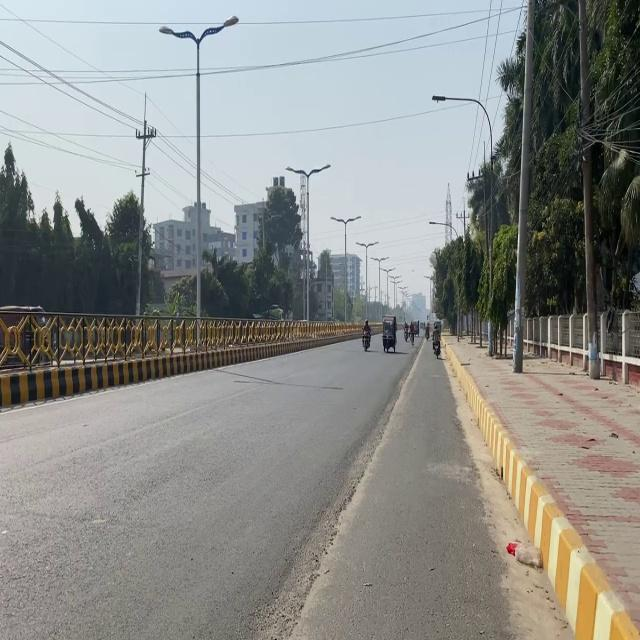Animal: (505, 539, 543, 568)
Construction-barrier: (266, 420, 374, 640), (516, 336, 639, 386)
Fallen-tree: (382, 332, 395, 352), (431, 338, 441, 359), (403, 325, 409, 341)
Garbage-bin: (361, 319, 371, 346)
Light-pole: (576, 0, 600, 375), (512, 0, 535, 372)
Pole: (10, 302, 224, 408)
Pothole: (441, 334, 638, 638)
Traffic-cone: (251, 303, 283, 320)
